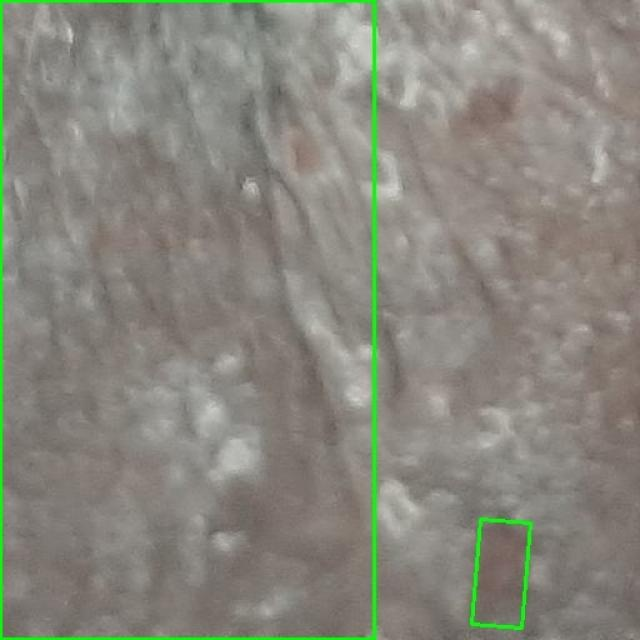Eczema: (0, 0, 374, 639), (472, 519, 531, 629)
